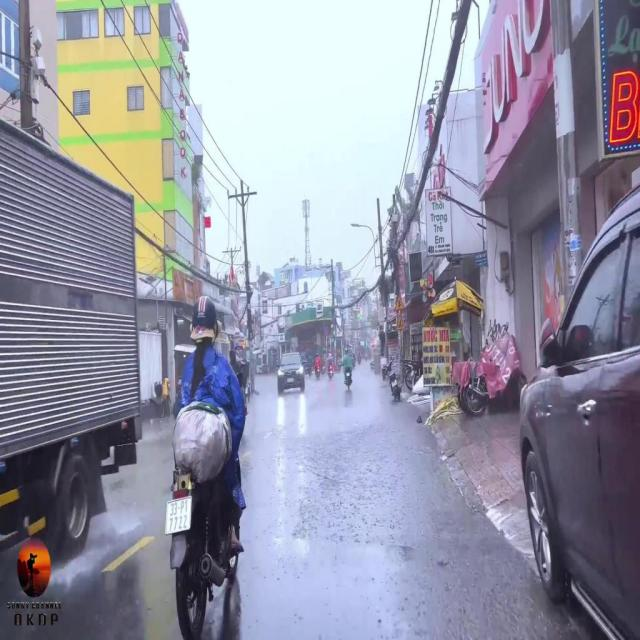chu_y_nguoi_di_bo_cat_ngang: (396, 314, 405, 330)
giao_nhau_voi_duong_khong_uu_tien: (394, 295, 404, 311)
